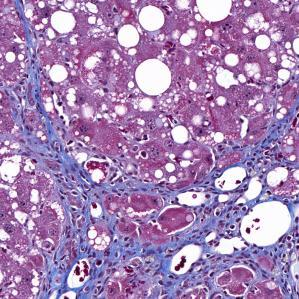fibrosis: (52, 234, 169, 286), (43, 166, 149, 221), (5, 78, 59, 161), (189, 185, 253, 252)
